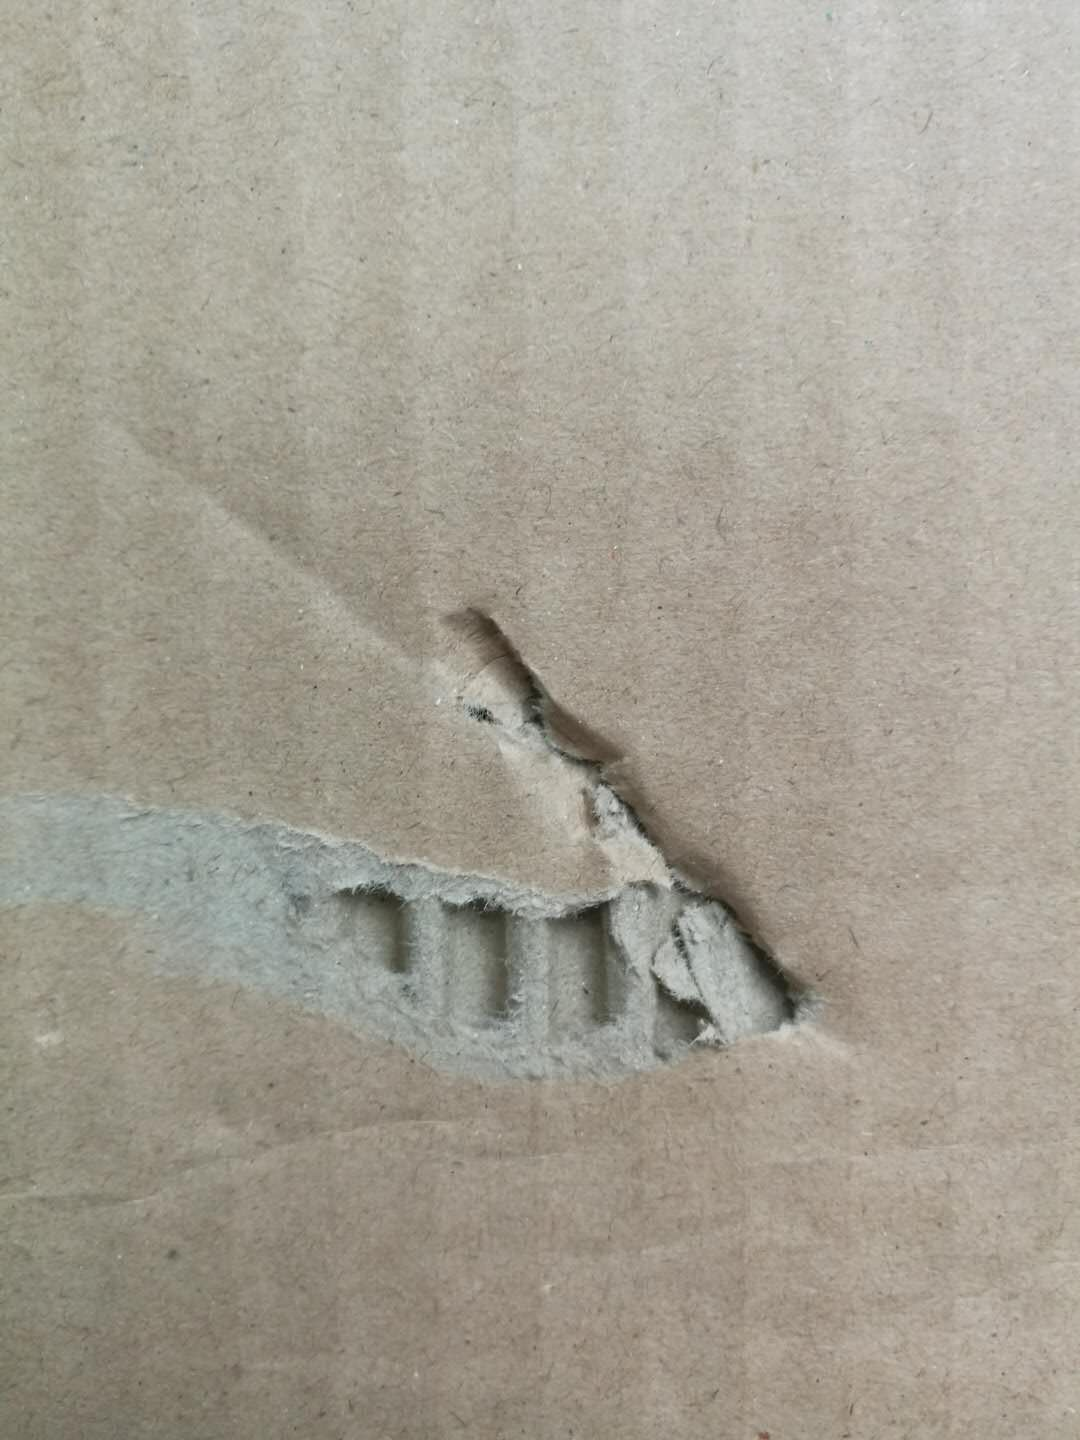defect: (1, 425, 889, 1227)
